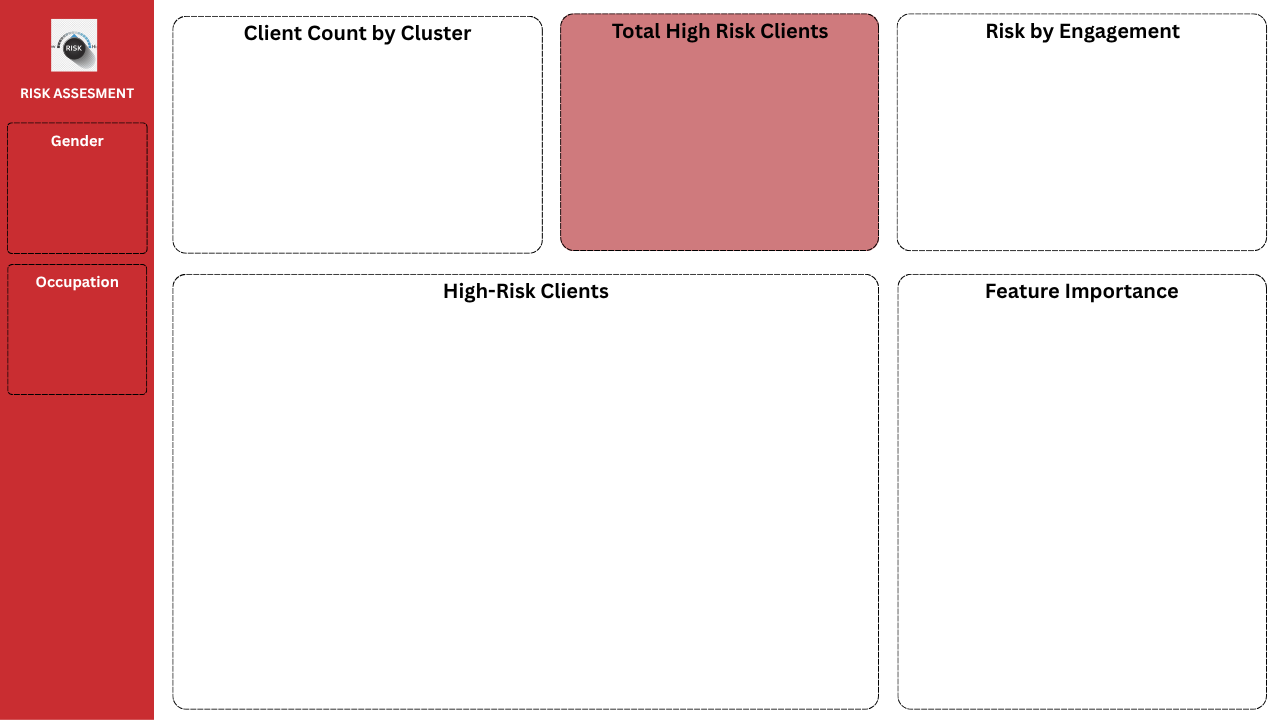

This screenshot's page, from the dashboard's own definition file:
{"tool":"powerbi","page":{"name":"Risk Analysis","canvas":[1280,720],"ordinal":4},"visuals":[{"type":"barChart","fields":{"Category":["analysisfinancial banking_data_with_risk_labels.Risk Cluster Label"],"Y":["_Measures.Client Count Clusters"]},"box":[171.5,50.7,371.6,198.3],"z":0},{"type":"columnChart","fields":{"Category":["EngagementYearCategories.Engagement Years"],"Y":["_Measures.Avg Risk Score by Engagement and Cluster"],"Series":["analysisfinancial banking_data_with_risk_labels.Risk Cluster Label"]},"box":[897.2,50.9,368,198.3],"z":1000},{"type":"tableEx","fields":{"Values":["analysisfinancial banking_data_with_risk_labels.Client ID","Sum(analysisfinancial banking_data_with_risk_labels.Risk Score)","analysisfinancial banking_data_with_risk_labels.Risk Cluster Label","Sum(analysisfinancial banking_data_with_risk_labels.Estimated Income)","Sum(analysisfinancial banking_data_with_risk_labels.Bank Loans)","Sum(analysisfinancial banking_data_with_risk_labels.Credit Card Balance)"]},"box":[177,321,699.7,386.3],"z":2000},{"type":"barChart","fields":{"Category":["analysisfinancial feature_importance.Feature"],"Y":["Sum(analysisfinancial feature_importance.Importance)"]},"box":[897.3,321.3,368.3,385.7],"z":3000},{"type":"gauge","fields":{"Y":["_Measures.High Risk Clients Count"]},"box":[561.7,51.2,315.1,198.5],"z":4000},{"type":"slicer","fields":{"Values":["analysisfinancial banking_data_with_risk_labels.Gender"]},"box":[10.1,158.6,135.6,94.1],"z":5000},{"type":"slicer","fields":{"Values":["analysisfinancial banking_data_with_risk_labels.Occupation"]},"box":[10.2,299.8,135.1,94.1],"z":6000},{"type":"actionButton","box":[55.3,446.3,43.3,39.7],"z":7000},{"type":"actionButton","box":[55.3,502.4,43.3,39.7],"z":8000},{"type":"actionButton","box":[55.3,558.4,43.3,39.7],"z":9000},{"type":"actionButton","box":[55.3,670.4,43.3,39.7],"z":10000},{"type":"actionButton","box":[55.3,614.4,43.3,39.7],"z":11000}]}

Visuals, with their boxes on the page's 1280x720 design canvas (x1, y1, x2, y2). These are canvas units, not pixel positions in the 1280x720 screenshot, which may show the page scaled, cropped or inside an application window:
barChart - analysisfinancial banking_data_with_risk_labels.Risk Cluster Label x _Measures.Client Count Clusters: 172:51:543:249
columnChart - EngagementYearCategories.Engagement Years x _Measures.Avg Risk Score by Engagement and Cluster: 897:51:1265:249
tableEx - analysisfinancial banking_data_with_risk_labels.Client ID x Sum(analysisfinancial banking_data_with_risk_labels.Risk Score): 177:321:877:707
barChart - analysisfinancial feature_importance.Feature x Sum(analysisfinancial feature_importance.Importance): 897:321:1266:707
gauge - _Measures.High Risk Clients Count: 562:51:877:250
slicer - analysisfinancial banking_data_with_risk_labels.Gender: 10:159:146:253
slicer - analysisfinancial banking_data_with_risk_labels.Occupation: 10:300:145:394
actionButton: 55:446:99:486
actionButton: 55:502:99:542
actionButton: 55:558:99:598
actionButton: 55:670:99:710
actionButton: 55:614:99:654
